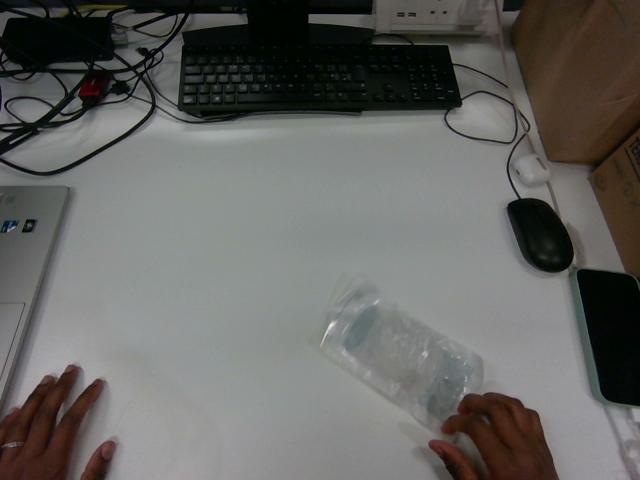gallipot: (320, 282, 482, 427)
